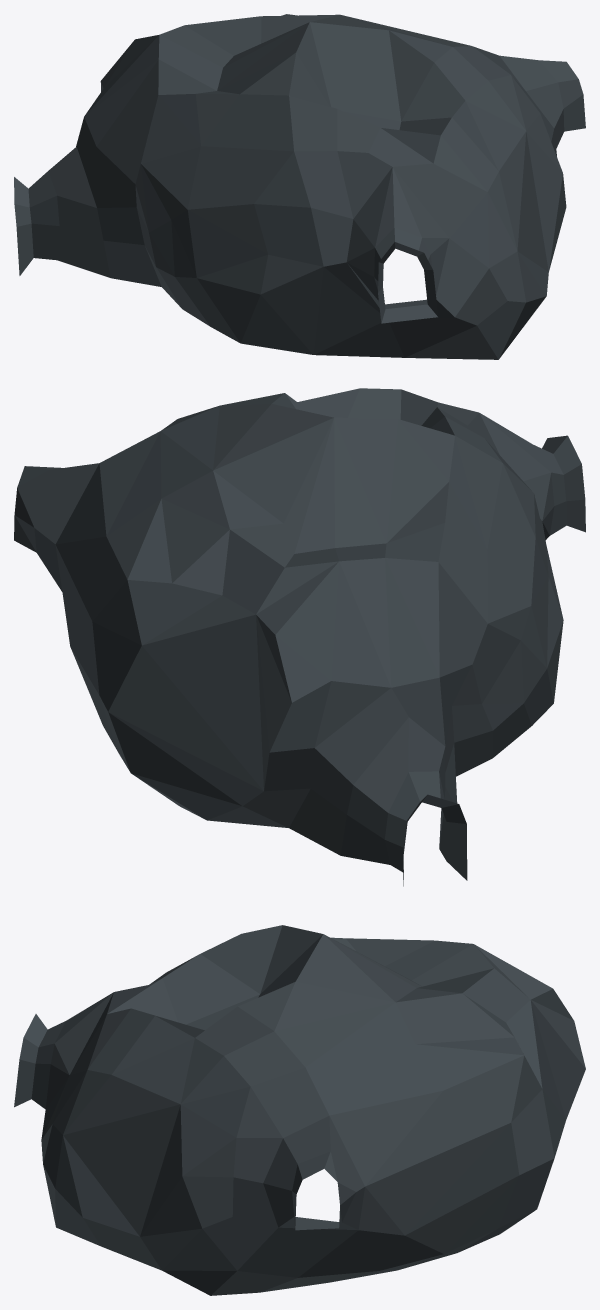
Rendered from Dome-3exits-08.fbx.
3 views of the same model, one above another, from view 1: azimuth 30°, elevation 25°; view 2: azimuth 150°, elevation 25°; view 3: azimuth 270°, elevation 25° (orthographic). The views are drawn at different scales.
Visible parts, largest first — view 1: Dome-3exits-08; view 2: Dome-3exits-08; view 3: Dome-3exits-08.
Boxes of the visible parts, bbox=[...] form: Dome-3exits-08: bbox=[14, 14, 585, 359]; Dome-3exits-08: bbox=[14, 388, 585, 886]; Dome-3exits-08: bbox=[14, 925, 585, 1295].
Bounding box in the file's own units: 2309 × 2225 × 1257.
